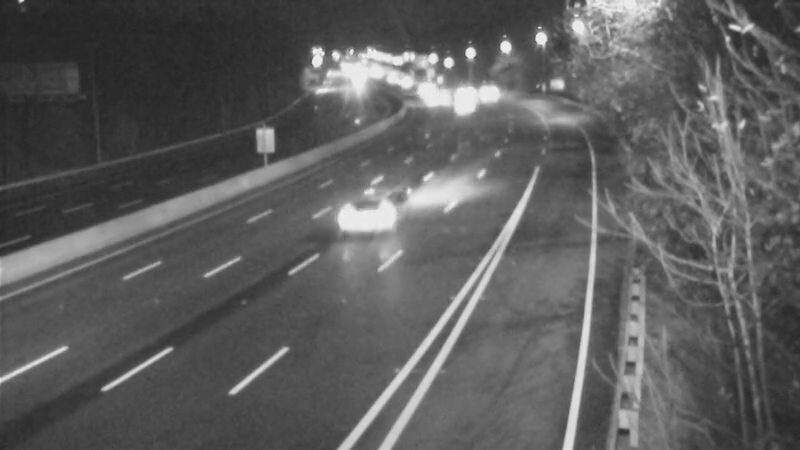vehicle: (323, 180, 403, 260), (396, 65, 446, 115), (464, 67, 514, 117), (409, 76, 459, 126), (438, 79, 488, 129)
